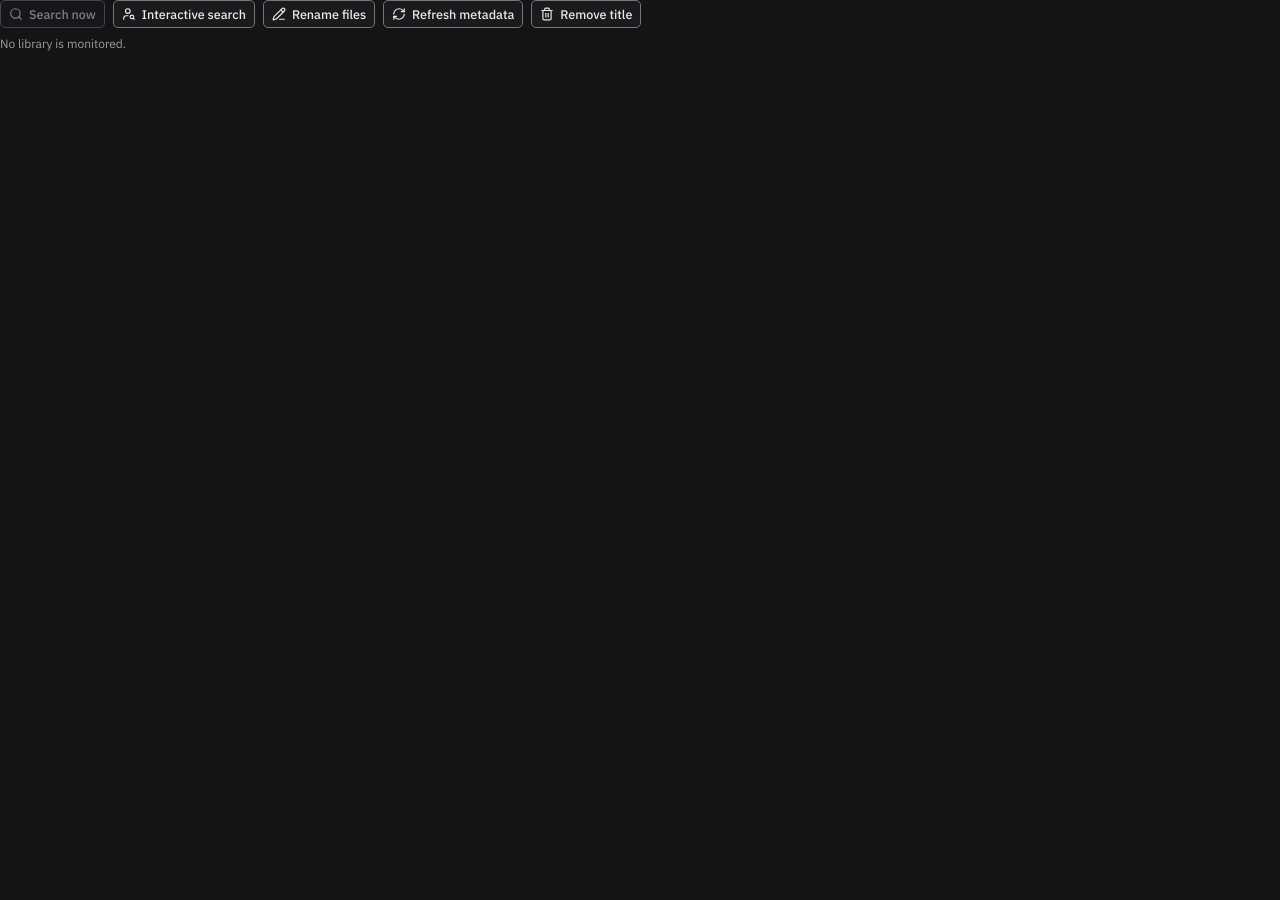
Scenario: does not claim the names match when files could not be checked
Click the button with test id "title-rename" at [319, 14], box [263,0,375,28]
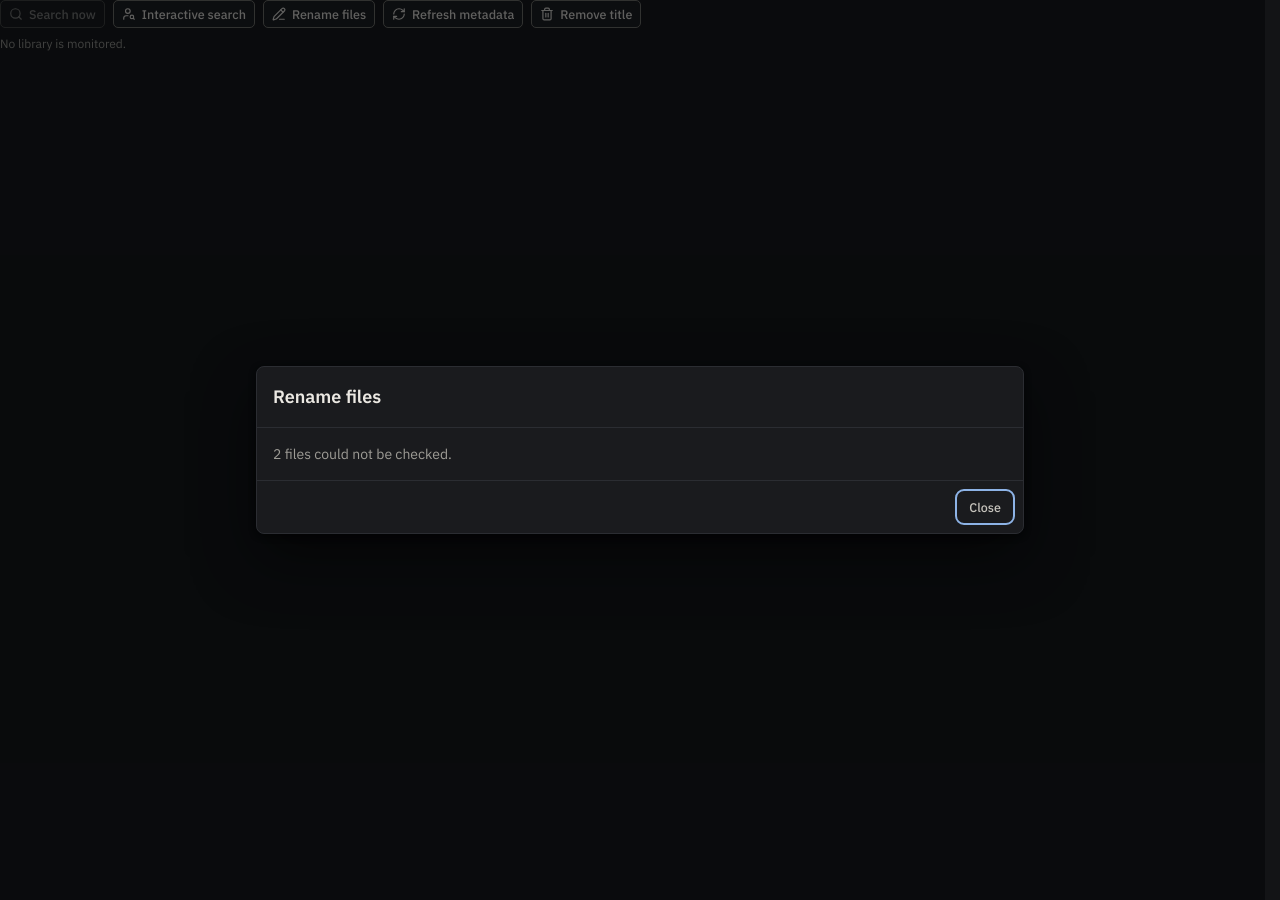
Check: the text with test id "rename-skipped" reads "2 files could not be checked.", box [273,445,452,463]
